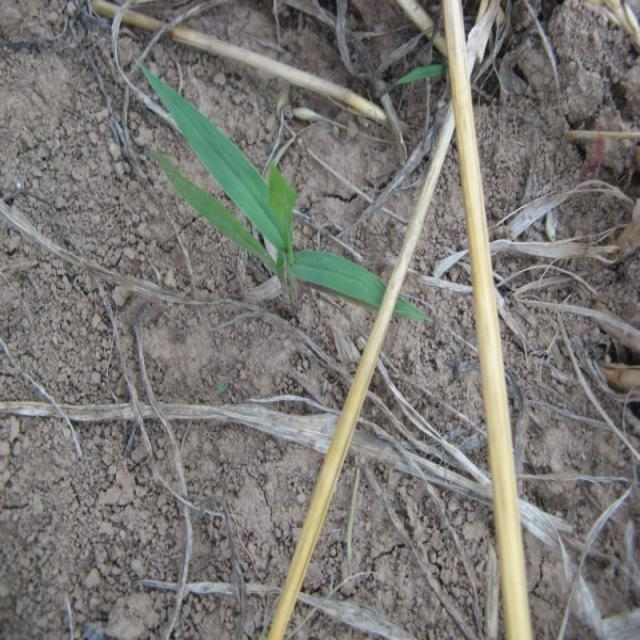bg: (133, 43, 430, 344)
